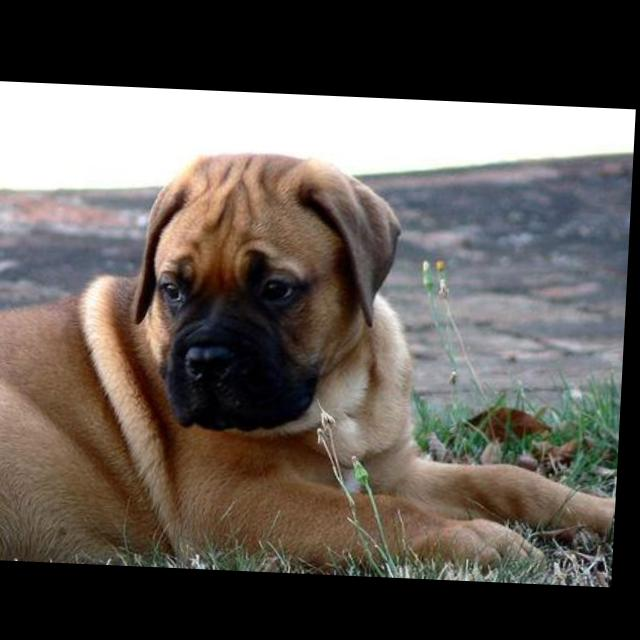bullmastiff: (1, 140, 635, 582)
